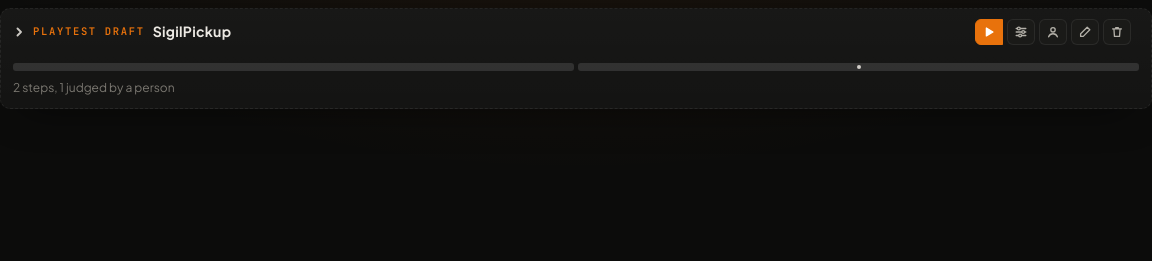
a draft Playtest card › Assign to subagent on a draft hands it over and offers Cancel
The width and height of the screenshot is (1152, 261).
Click the button "Playtest draft SigilPickup": (122, 32) [13,21,231,43]
(page scrolled)
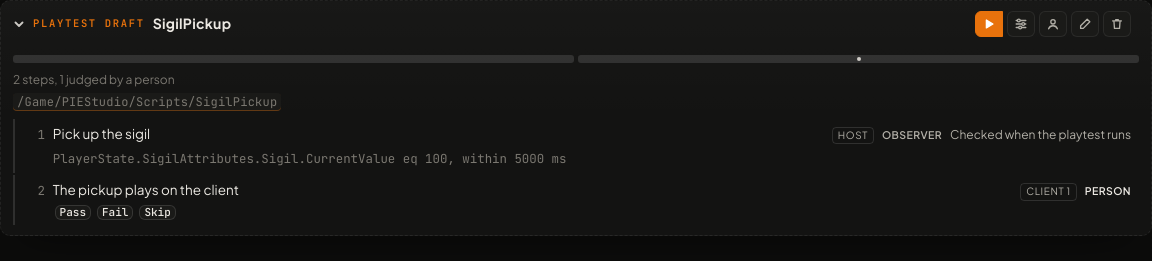
Click the button named "Assign to subagent": (1053, 24) [1039,11,1067,37]
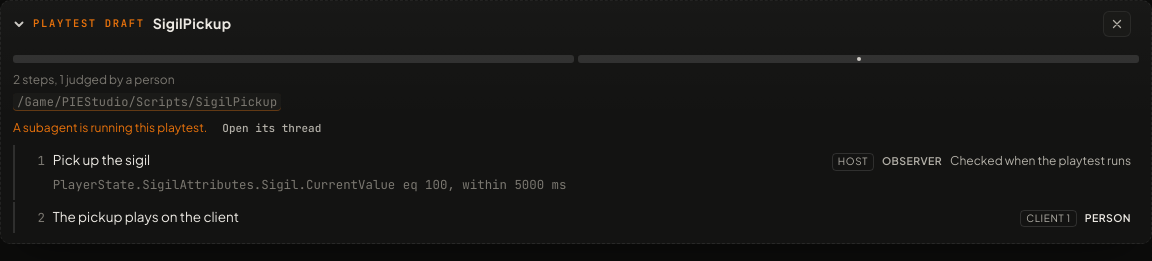
Check: the button named "Cancel the subagent" is shown, box [1103,11,1131,37]
Check: the button "Open its thread" is shown, box [217,121,326,136]
